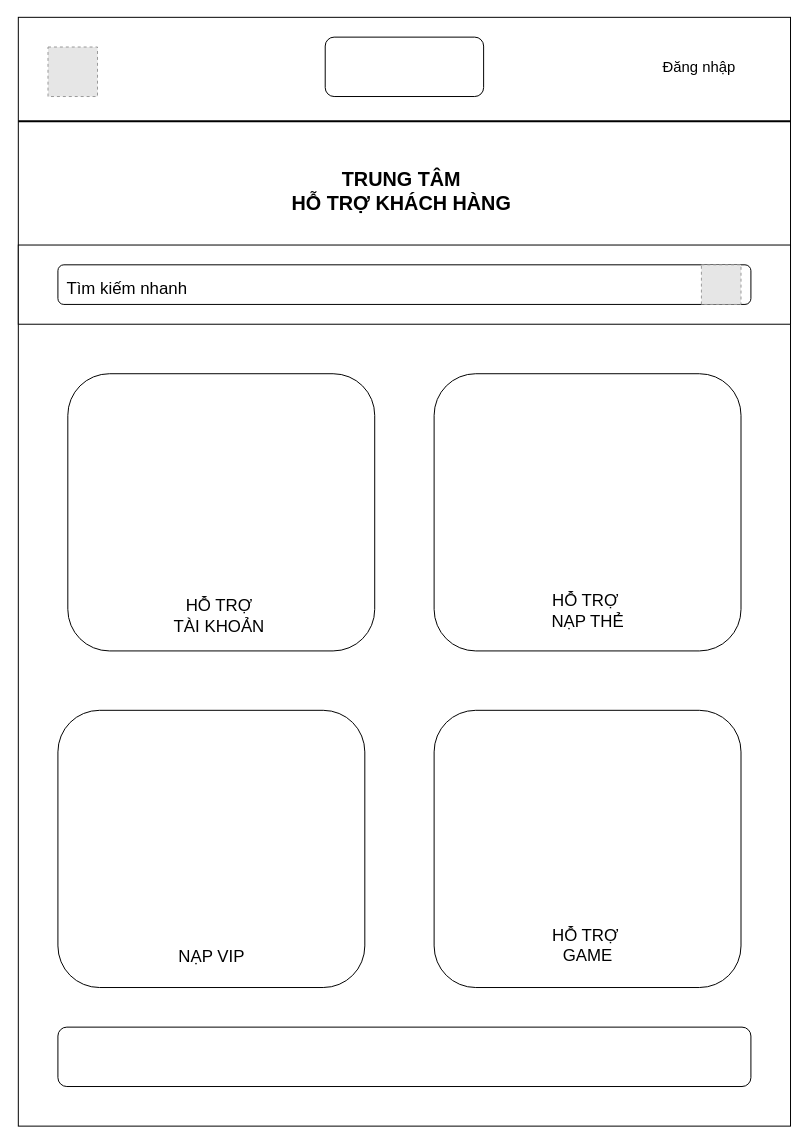
Image size: 808x1143. Some labels were removed from this diagram. Grey dashed boxes stand in for pictures. The shapes that lost their labels are listed below. From the top down, each one's box as (x1, y1, x2, y2) in pixels, then its label:
(324, 36, 484, 97): LOGO
(57, 1026, 751, 1087): THEO DÕI PHIẾU HỖ TRỢ
